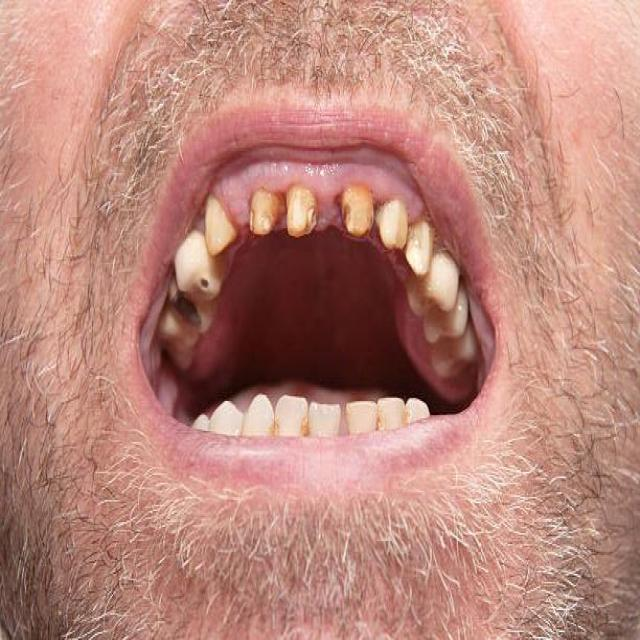caries: (331, 172, 379, 244), (243, 180, 285, 239), (283, 182, 323, 242), (168, 285, 208, 343), (193, 265, 220, 301)
